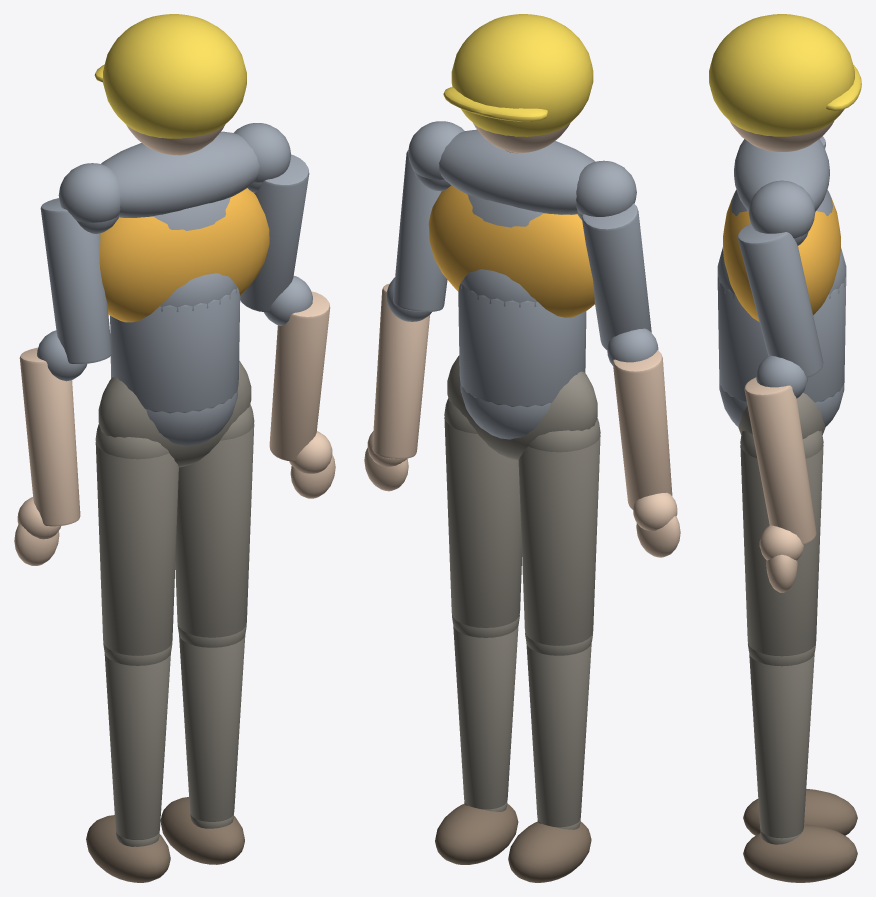
The model's file is th30_arbeiter.glb.
3 renders of one model, left to right at view 1: azimuth 30°, elevation 25°; view 2: azimuth 150°, elevation 25°; view 3: azimuth 270°, elevation 25°, orthographic.
Visible parts, largest first — view 1: Cone.006, Sphere.039, Cone.008, Sphere.038, Cone, Cone.009, Cone.007, Sphere.004, Cone.002, Cone.003, Cone.005, Cone.004 (+18 smaller); view 2: Cone.006, Cone.008, Sphere.039, Sphere.038, Cone, Cone.009, Cone.007, Sphere.004, Cone.005, Cone.003, Cone.002, Cone.004 (+17 smaller); view 3: Sphere.039, Cone.008, Cone.009, Cone.004, Cone.005, Cone, Sphere.038, Sphere.037, Sphere.004, Sphere.022, Sphere.032, Sphere.024 (+10 smaller).
Boxes of the visible parts, box(x1,y1,x2,y2) form: Cone.006: box(95, 442, 178, 655); Sphere.039: box(103, 14, 246, 138); Cone.008: box(175, 424, 254, 637); Sphere.038: box(99, 188, 269, 322); Cone: box(110, 287, 240, 413); Cone.009: box(179, 635, 245, 821); Cone.007: box(104, 653, 170, 839); Sphere.004: box(101, 131, 259, 217); Cone.002: box(40, 198, 111, 364); Cone.003: box(19, 347, 80, 526); Cone.005: box(269, 291, 330, 461); Cone.004: box(240, 154, 309, 312); Cone.006: box(518, 435, 600, 645); Cone.008: box(444, 417, 521, 627); Sphere.039: box(451, 14, 593, 136); Sphere.038: box(428, 185, 594, 317); Cone: box(458, 283, 586, 406); Cone.009: box(453, 625, 518, 809); Cone.007: box(526, 643, 591, 827); Sphere.004: box(439, 129, 594, 214); Cone.005: box(372, 283, 429, 459); Cone.003: box(612, 350, 672, 509); Cone.002: box(582, 203, 651, 349); Cone.004: box(393, 149, 447, 311); Sphere.039: box(709, 14, 854, 136); Cone.008: box(740, 445, 823, 656); Cone.009: box(749, 653, 814, 838); Cone.004: box(738, 223, 823, 377); Cone.005: box(744, 377, 816, 544); Cone: box(717, 277, 846, 402); Sphere.038: box(723, 191, 840, 321); Sphere.037: box(743, 824, 857, 882); Sphere.004: box(734, 139, 829, 211); Sphere.022: box(748, 180, 815, 238); Sphere.032: box(743, 789, 857, 835); Sphere.024: box(756, 355, 807, 398).
Bounding box in the file's own units: 0.7134 × 1.82 × 0.3006.
